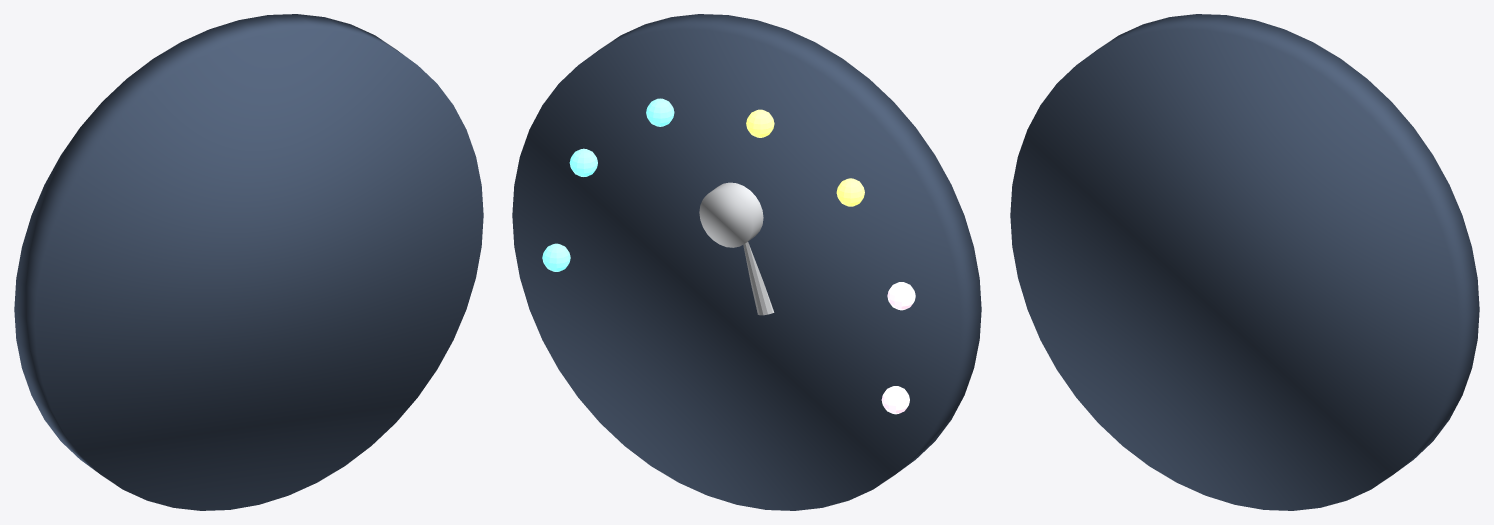
The model's file is sustainability-meter.glb.
3 renders of one model, left to right at view 1: azimuth 30°, elevation 25°; view 2: azimuth 150°, elevation 25°; view 3: azimuth 330°, elevation 25°, orthographic.
Visible parts, largest first — view 1: DialFace; view 2: DialFace, Hub, Needle, Tick_2, Tick_3, Tick_4, Tick_6, Tick_0, Tick_5, Tick_1; view 3: DialFace.
Boxes of the visible parts, bbox=[...] form: DialFace: bbox=[14, 14, 483, 510]; DialFace: bbox=[512, 14, 981, 510]; Hub: bbox=[699, 182, 763, 247]; Needle: bbox=[743, 242, 774, 315]; Tick_2: bbox=[836, 178, 864, 206]; Tick_3: bbox=[746, 109, 774, 137]; Tick_4: bbox=[646, 98, 674, 126]; Tick_6: bbox=[542, 243, 570, 271]; Tick_0: bbox=[881, 386, 909, 414]; Tick_5: bbox=[569, 148, 597, 176]; Tick_1: bbox=[887, 282, 915, 310]; DialFace: bbox=[1010, 14, 1479, 510].
Size of the model in its own units: 2 by 2 by 0.255.
